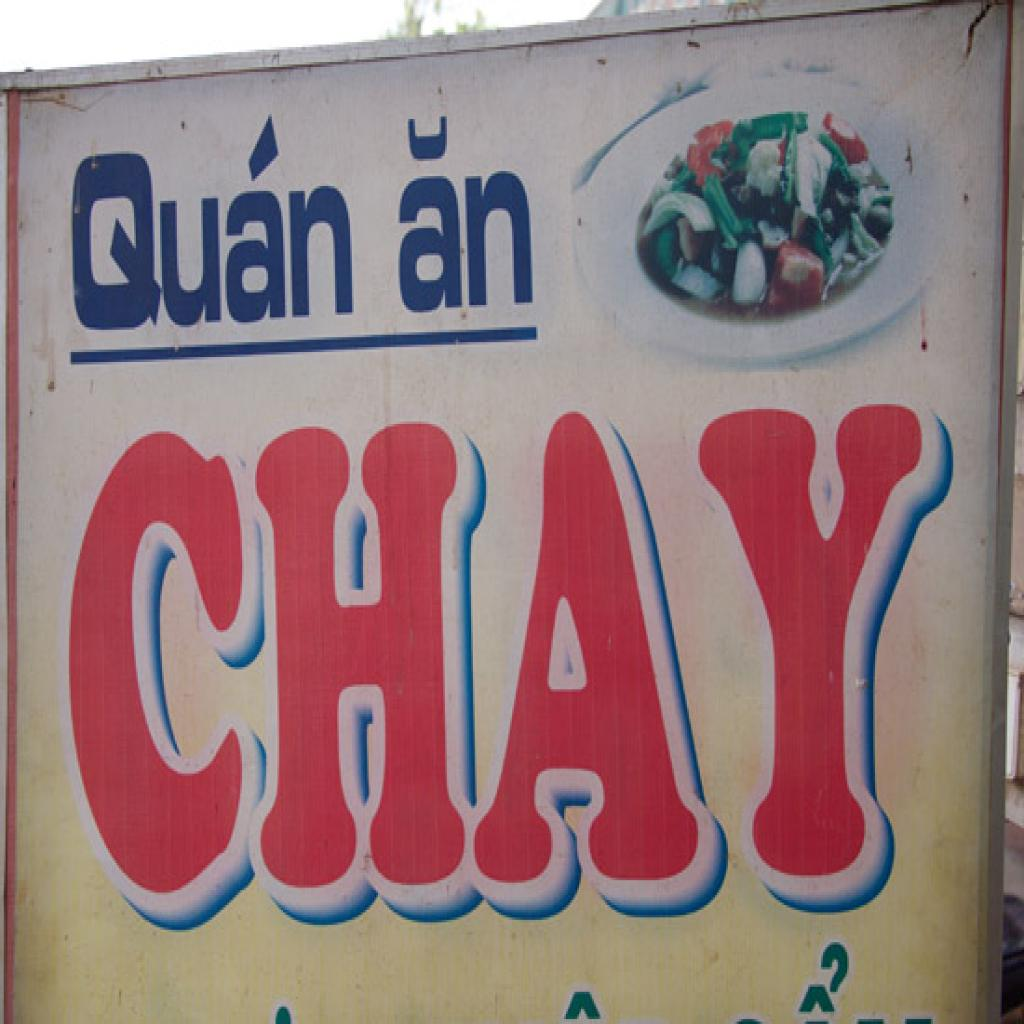text: (69, 117, 357, 337), (393, 114, 536, 315)
